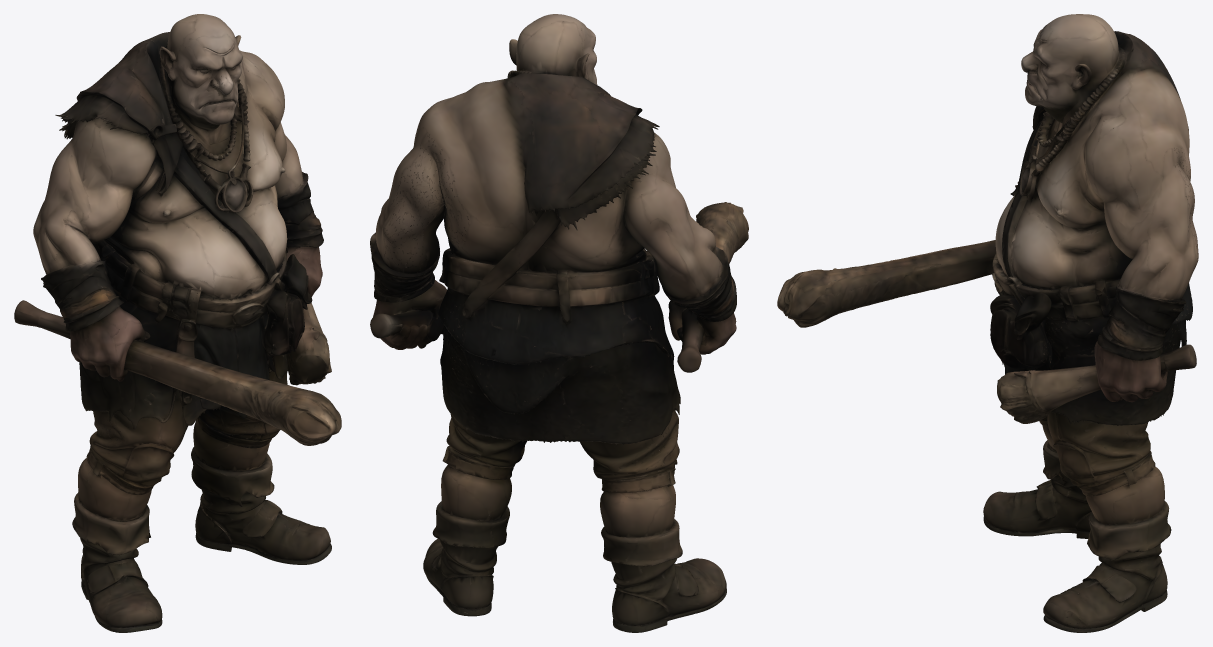
The model's file is ogre.glb.
3 views of the same model, side by side, from view 1: azimuth 30°, elevation 25°; view 2: azimuth 150°, elevation 25°; view 3: azimuth 270°, elevation 25° (orthographic). The views are drawn at different scales.
Parts seen in each view (by area): view 1: material; view 2: material; view 3: material.
Part boxes in pixels (x1=…): material: x1=14, y1=14, x2=341, y2=632; material: x1=370, y1=14, x2=748, y2=632; material: x1=777, y1=14, x2=1198, y2=632.
Size of the model in its own units: 0.5909 by 1.03 by 0.6992.
1 material, 1 textured.
